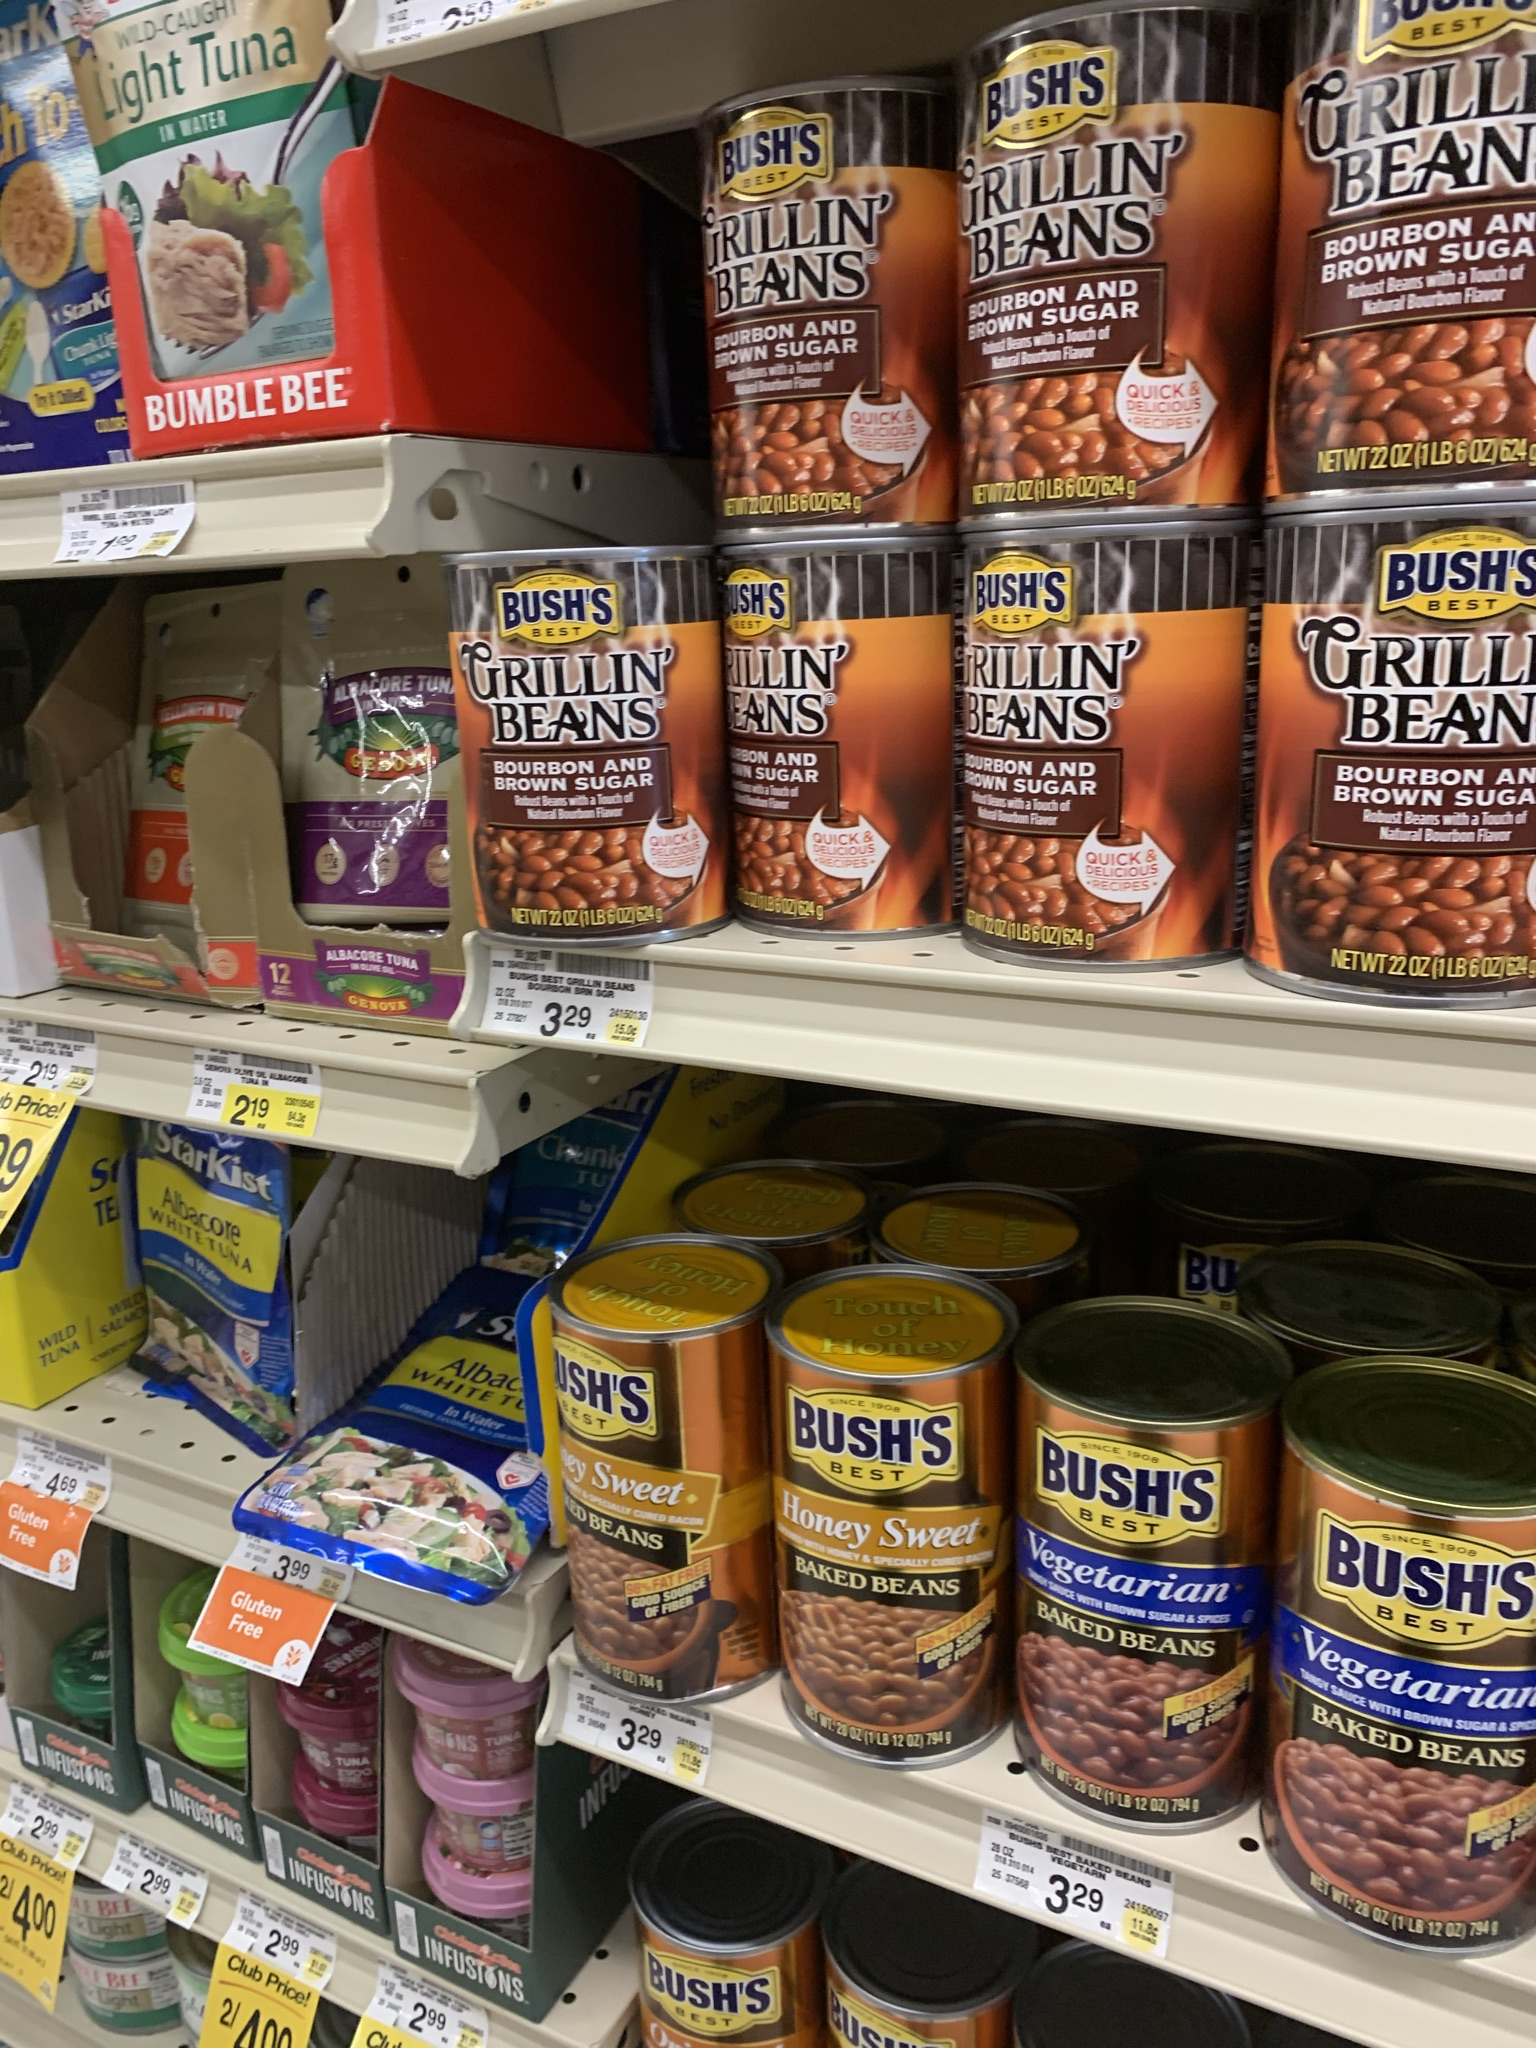can: (991, 47, 1258, 505), (1279, 534, 1536, 997), (1284, 1438, 1536, 1906), (1292, 15, 1536, 497), (983, 547, 1242, 955), (703, 113, 957, 519), (1018, 1379, 1254, 1779), (471, 569, 715, 922), (737, 561, 950, 932), (794, 1347, 1004, 1721), (553, 1308, 771, 1655)
